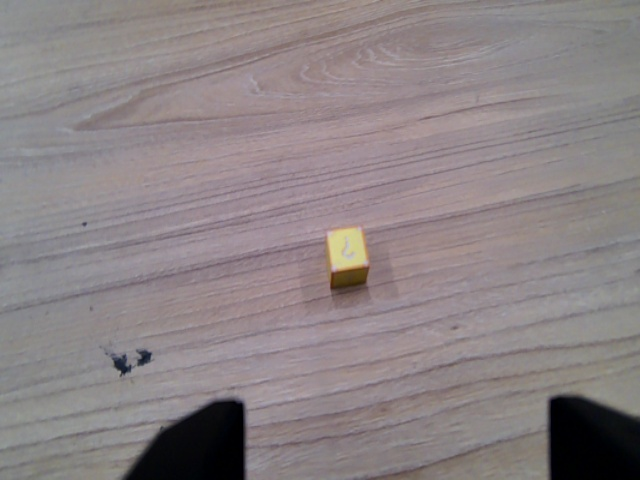lucky: (320, 227, 377, 291)
